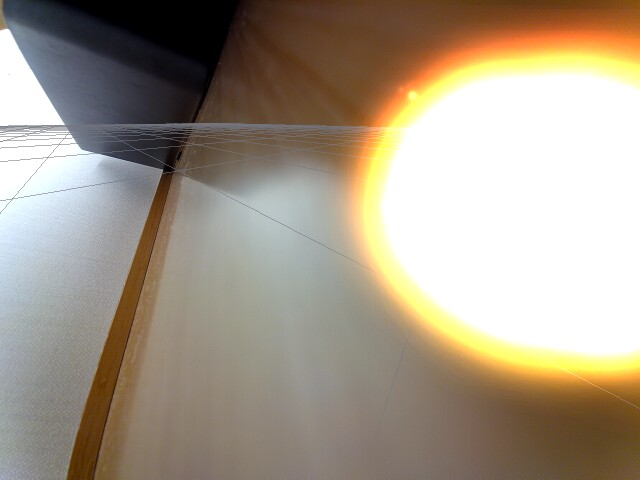firebig: (350, 36, 640, 400)
